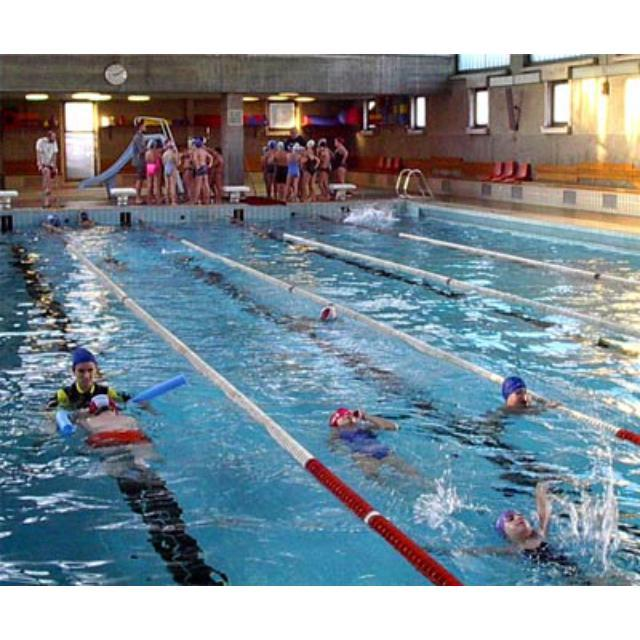human: (487, 481, 579, 585), (331, 405, 412, 483), (497, 374, 538, 415)
